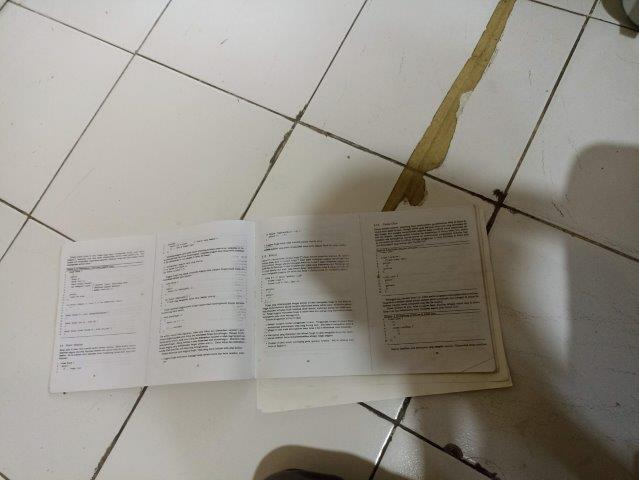kertas: (49, 204, 514, 411)
